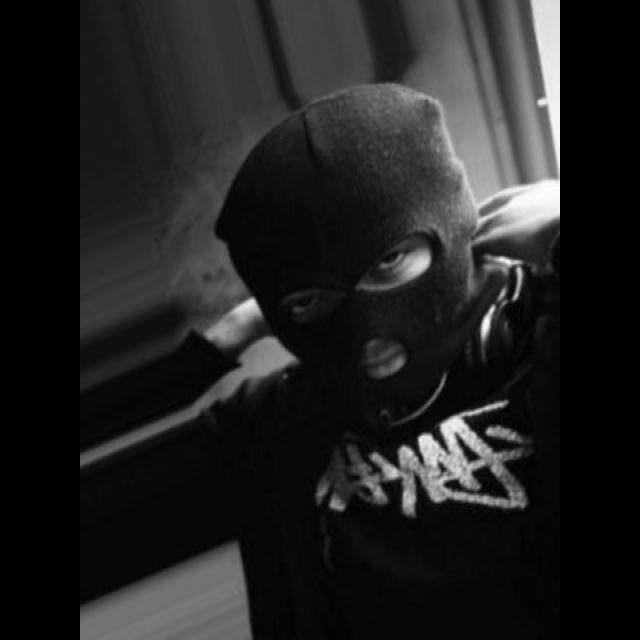6_pasamontana: (210, 85, 488, 423)
